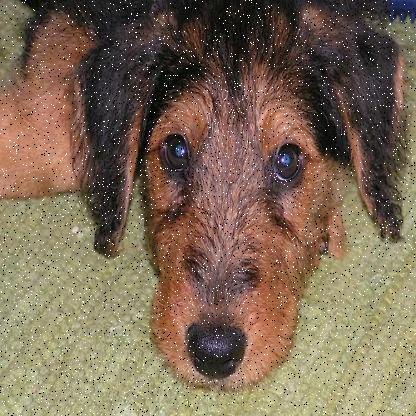dog: (20, 0, 411, 396)
